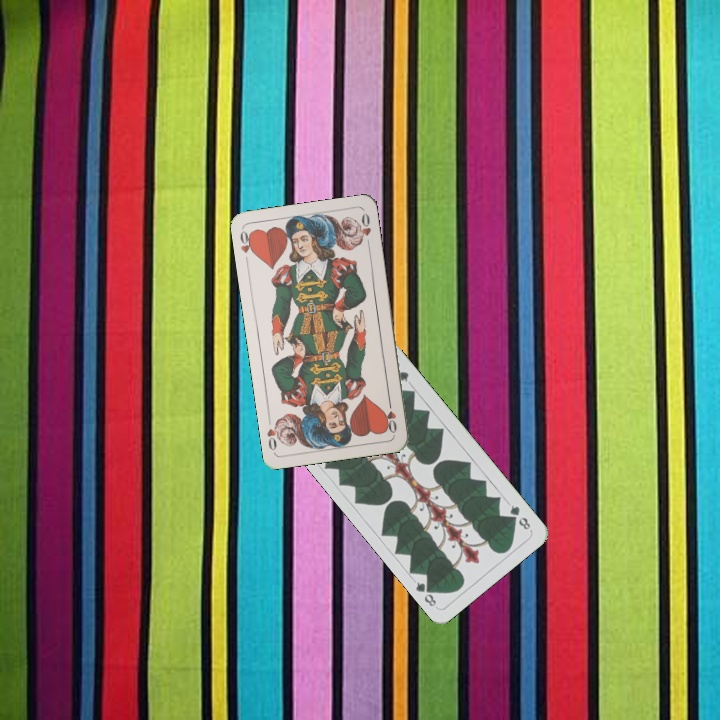G8: (505, 501, 533, 533)
HO: (236, 226, 257, 267), (382, 396, 399, 436)
